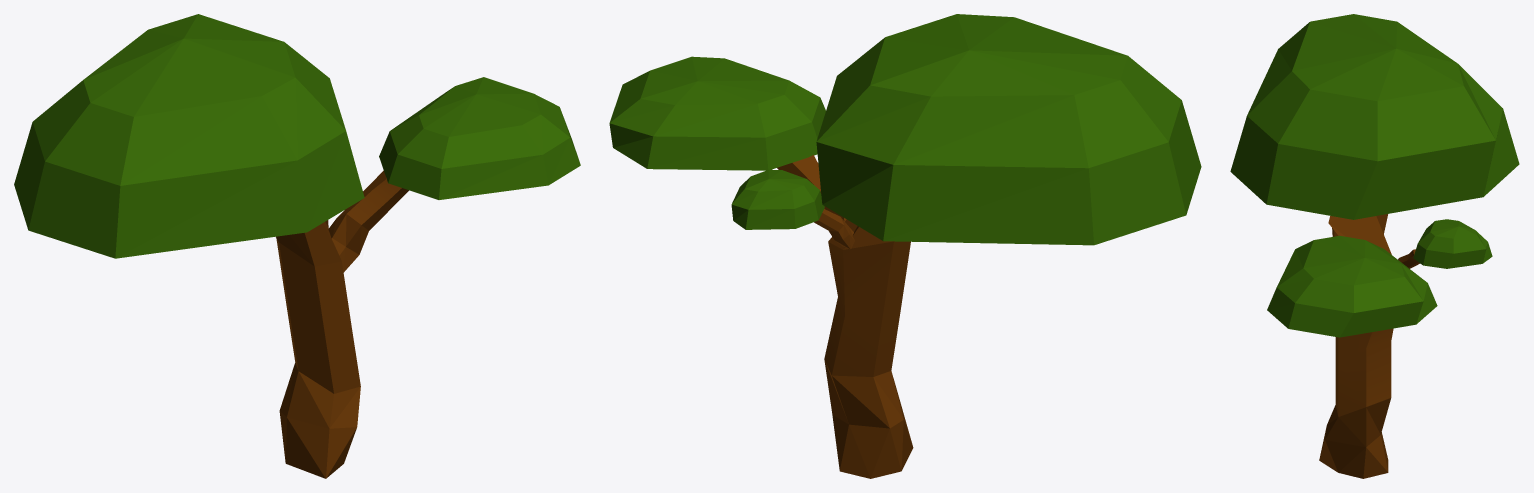
Rendered from tree_5.dae.
3 renders of one model, left to right at view 1: azimuth 30°, elevation 25°; view 2: azimuth 150°, elevation 25°; view 3: azimuth 270°, elevation 25°, orthographic. The views are drawn at different scales.
Visible parts, largest first — view 1: group_0 (×4); view 2: group_0 (×6); view 3: group_0 (×4).
Part boxes in pixels (x1,y1,x2,y2): group_0 (×4): (14, 14, 580, 478); group_0 (×6): (609, 14, 1201, 478); group_0 (×4): (1230, 14, 1519, 478).
Size of the model in its own units: 340 by 185 by 262.
